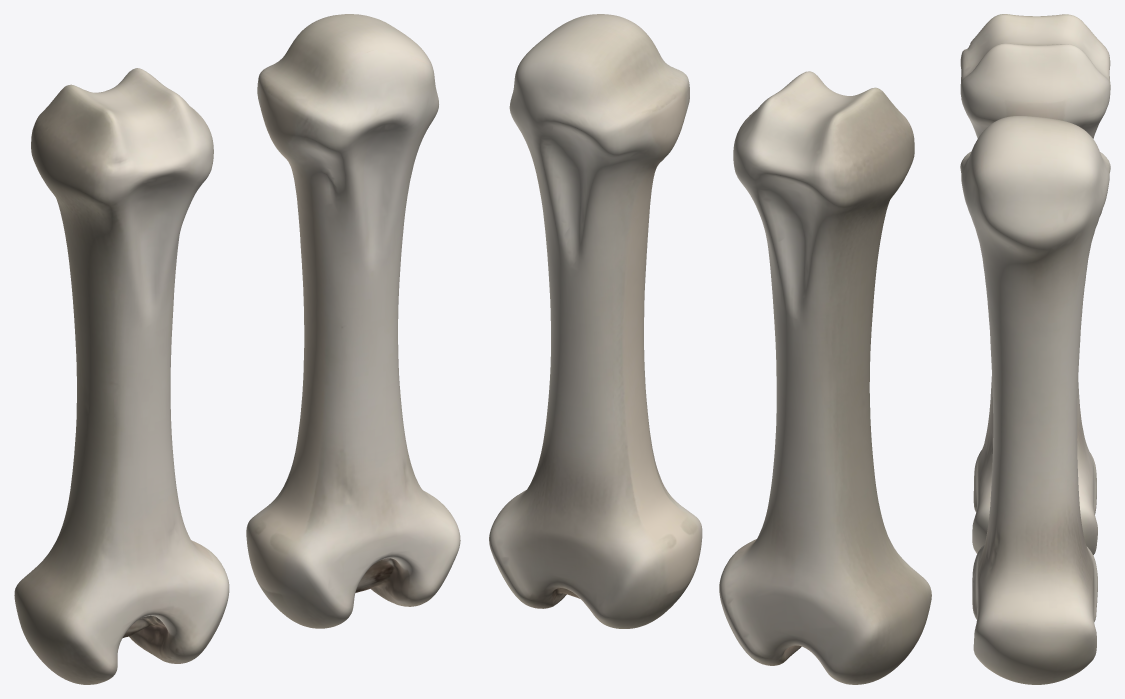
Rendered from dog-tibia-fibula.glb.
3 views of the same model, side by side, from view 1: azimuth 30°, elevation 25°; view 2: azimuth 150°, elevation 25°; view 3: azimuth 270°, elevation 25° (orthographic). The views are drawn at different scales.
Visible parts, largest first — view 1: model; view 2: model; view 3: model.
Boxes of the visible parts, bbox=[...] form: model: bbox=[14, 14, 460, 684]; model: bbox=[489, 14, 931, 684]; model: bbox=[960, 14, 1110, 684].
Size of the model in its own units: 1.4 by 1.9 by 0.4793.
1 material, 1 textured.
